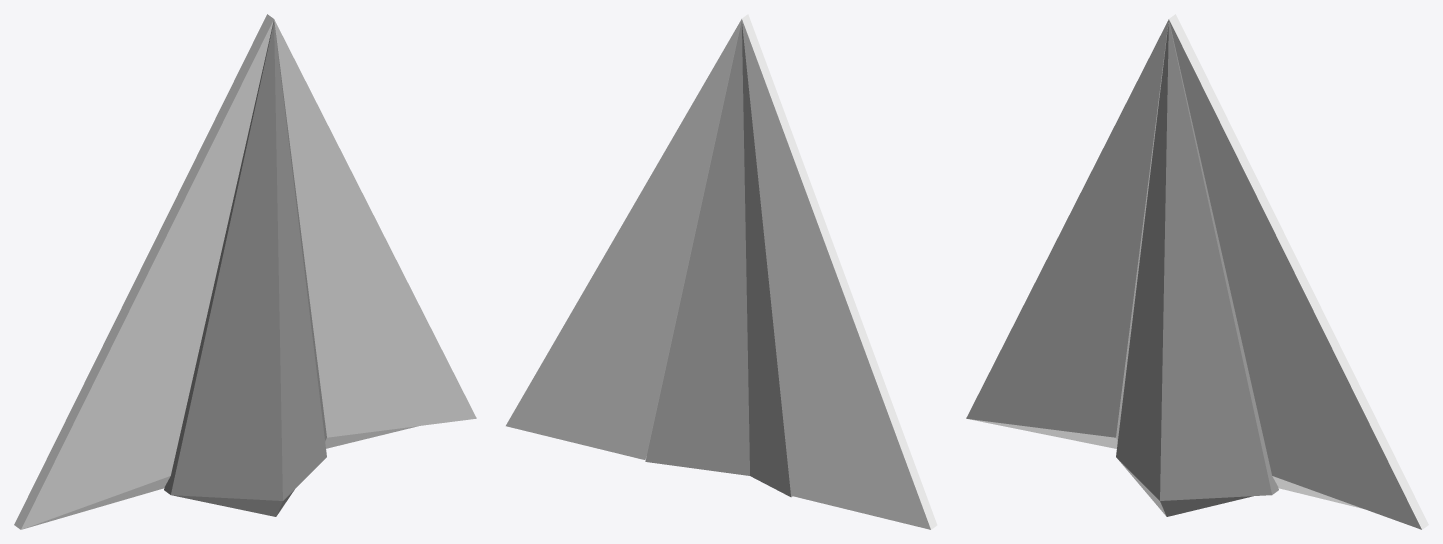
The picture shows the model from 3 angles, left to right: view 1: azimuth 30°, elevation 25°; view 2: azimuth 150°, elevation 25°; view 3: azimuth 330°, elevation 25°; orthographic projection. The views are drawn at different scales.
Parts seen in each view (by area): view 1: PA_Cube.005, PA.001_Cube.014; view 2: PA_Cube.005, PA.001_Cube.014; view 3: PA_Cube.005, PA.001_Cube.014.
Part boxes in pixels (x1,y1,x2,y2): PA_Cube.005: (14,14,476,529); PA.001_Cube.014: (164,21,326,516); PA_Cube.005: (506,14,937,529); PA.001_Cube.014: (645,20,792,497); PA_Cube.005: (966,14,1428,529); PA.001_Cube.014: (1116,21,1278,516).
Size of the model in its own units: 0.9626 by 1 by 0.1496.
